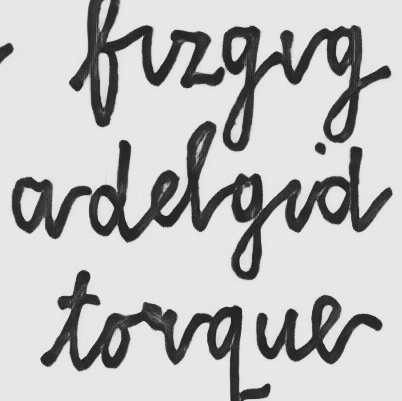a: (8, 174, 59, 241)
d: (87, 139, 139, 241), (313, 144, 370, 229)
e: (148, 166, 181, 230)
g: (226, 170, 269, 282)
i: (276, 175, 305, 234)
l: (183, 118, 222, 234)
